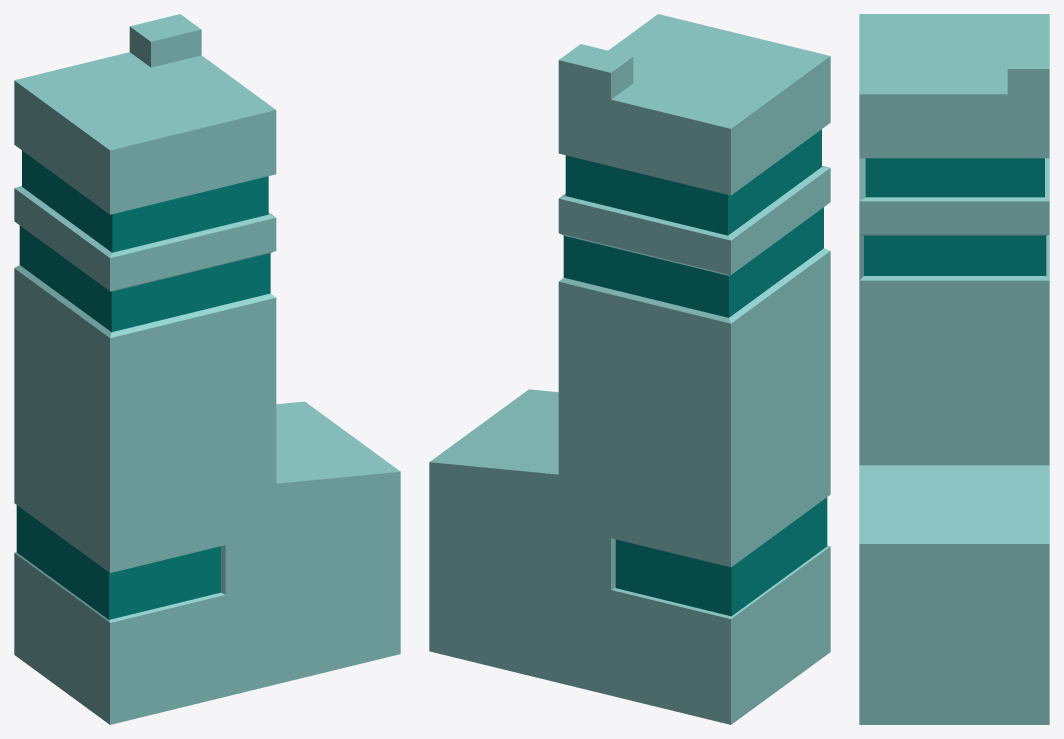
The model's file is vraitest.FBX.
3 views of the same model, side by side, from view 1: azimuth 30°, elevation 25°; view 2: azimuth 150°, elevation 25°; view 3: azimuth 270°, elevation 25° (orthographic). The views are drawn at different scales.
Visible parts, largest first — view 1: Box001; view 2: Box001; view 3: Box001.
Boxes of the visible parts, <box> form: Box001: <box>14,14,400,724</box>; Box001: <box>429,14,830,724</box>; Box001: <box>859,14,1049,724</box>.
Bounding box in the file's own units: 138 × 272 × 78.74.
